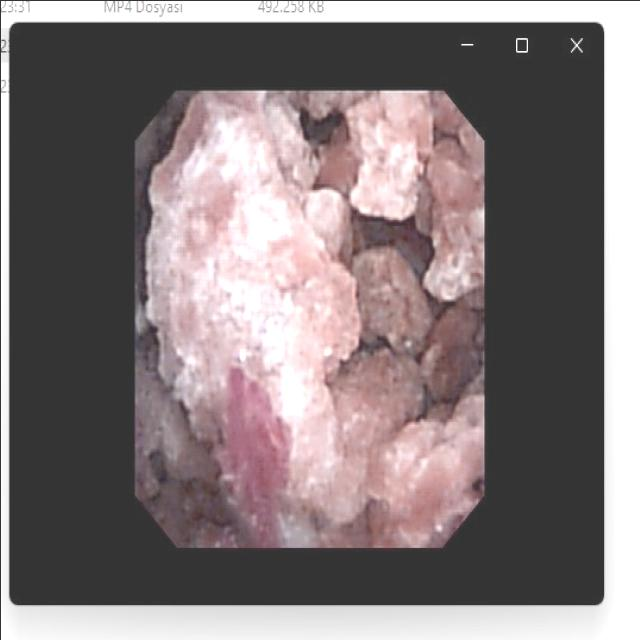stone: (144, 94, 475, 538)
